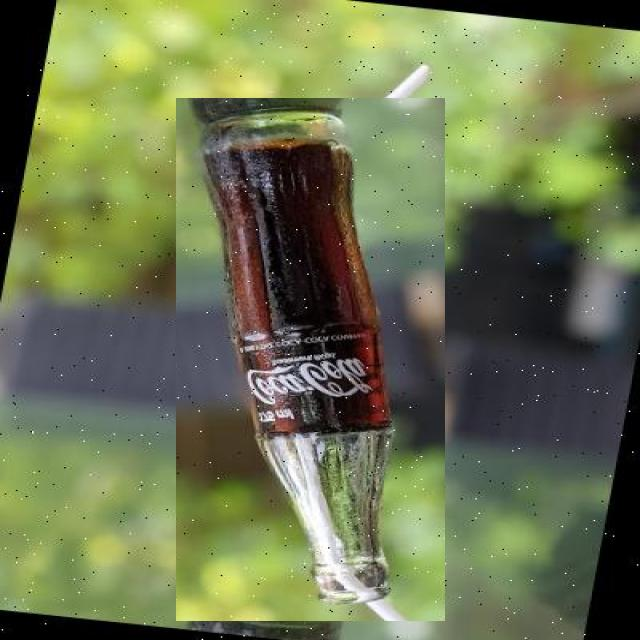coca-cola: (176, 98, 445, 621)
